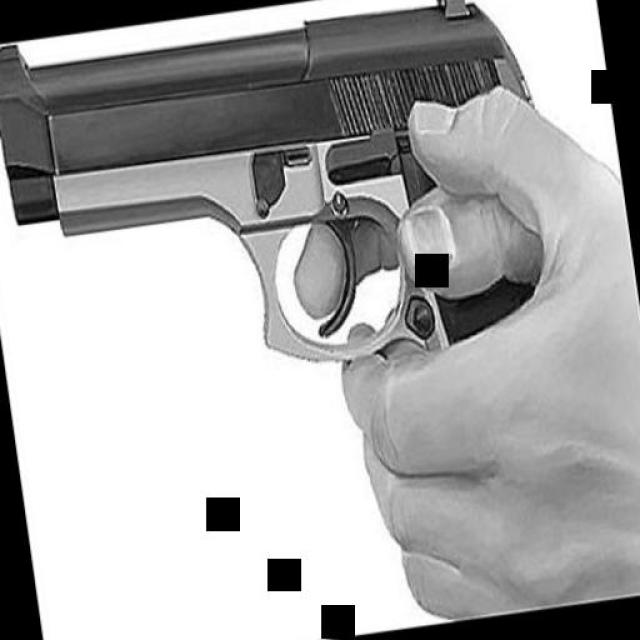gun: (0, 0, 559, 420)
